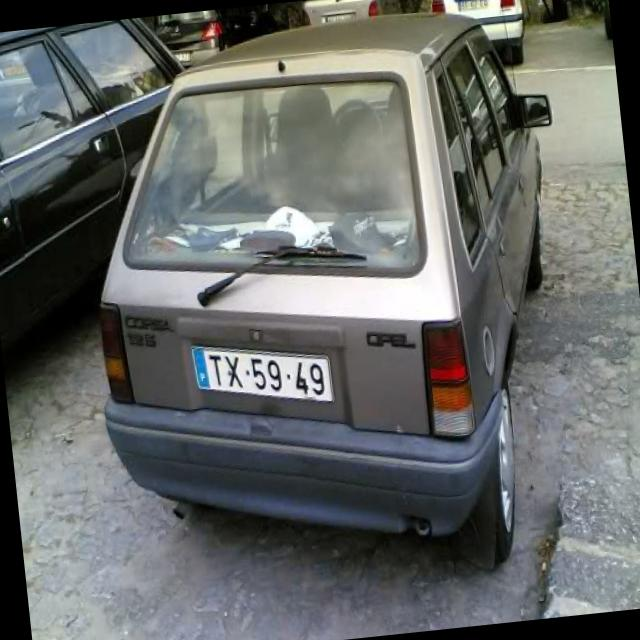portuguese-license-plates: (190, 344, 337, 402)
